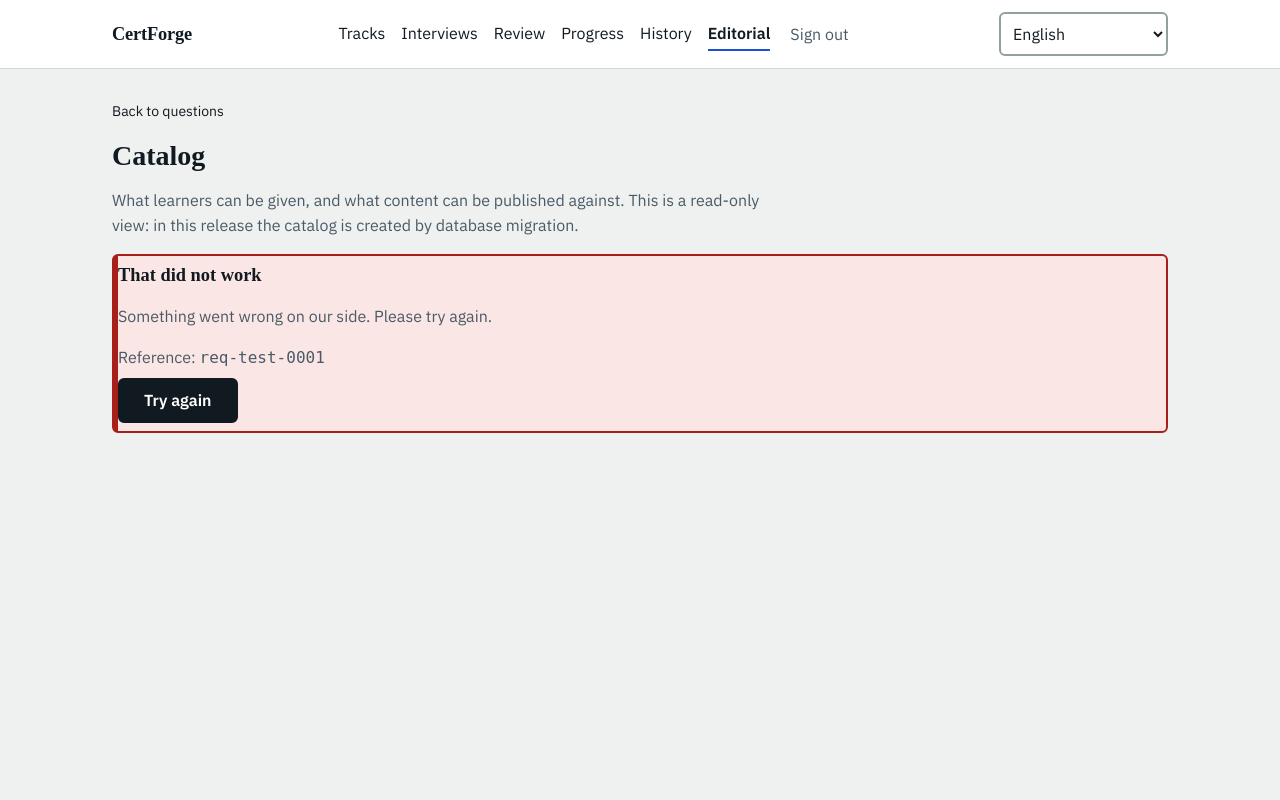
Scenario: the catalog › shows a failure and retries
Click the button "Try again": (178, 401) [118,378,238,423]
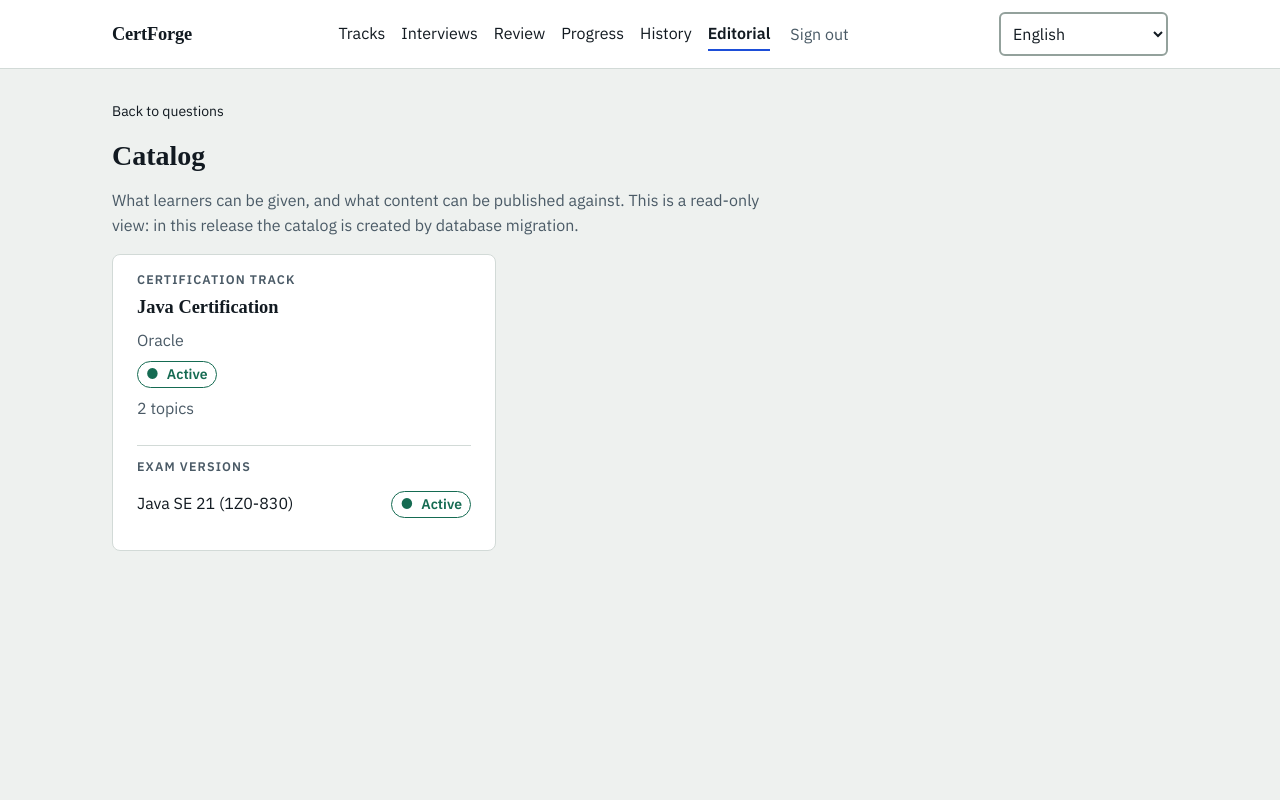
Expected: the list named "Preparation tracks" is shown, [112,254,496,551]
